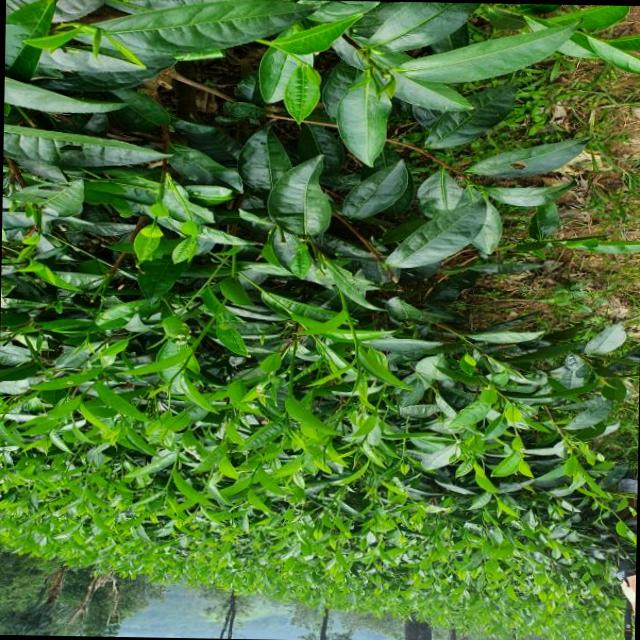Stem: (354, 340, 359, 345), (269, 42, 274, 45), (170, 377, 173, 381), (189, 215, 192, 219)
